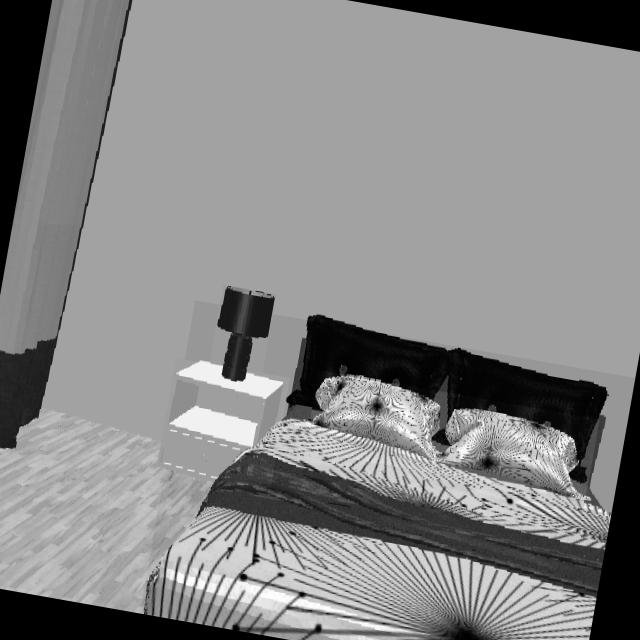bed: (140, 323, 611, 640)
lamp: (215, 286, 275, 385)
nighttable: (157, 363, 284, 482)
pillow: (311, 374, 585, 499)
